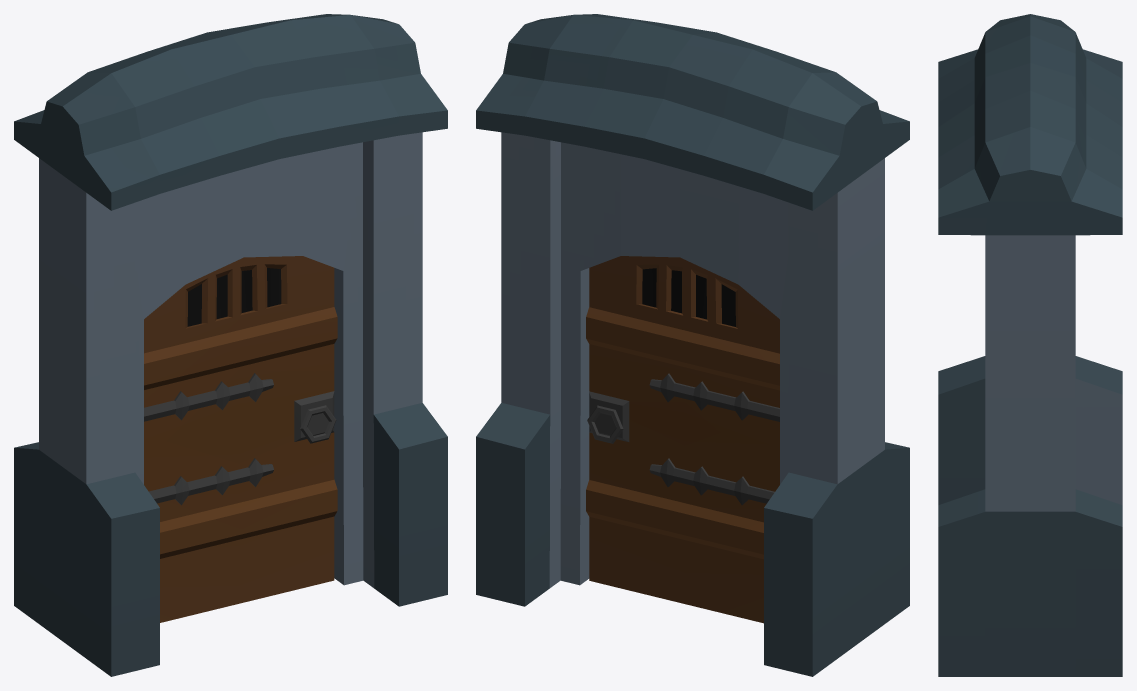
The model's file is Door_archway_A.fbx.
3 views of the same model, side by side, from view 1: azimuth 30°, elevation 25°; view 2: azimuth 150°, elevation 25°; view 3: azimuth 270°, elevation 25° (orthographic). The views are drawn at different scales.
Parts seen in each view (by area): view 1: Door_archway_A, Door; view 2: Door_archway_A, Door; view 3: Door_archway_A.
Boxes of the visible parts, bbox=[...] form: Door_archway_A: bbox=[14, 14, 447, 676]; Door: bbox=[144, 256, 337, 622]; Door_archway_A: bbox=[476, 14, 909, 676]; Door: bbox=[586, 256, 779, 623]; Door_archway_A: bbox=[938, 14, 1122, 676].
Size of the model in its own units: 200 by 321 by 100.
